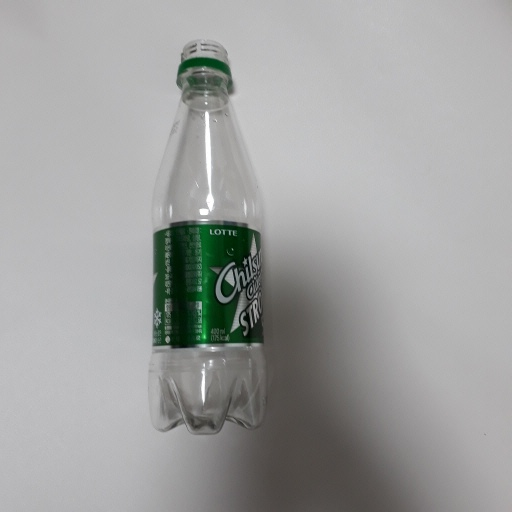Plastic_0: (148, 39, 272, 439)
